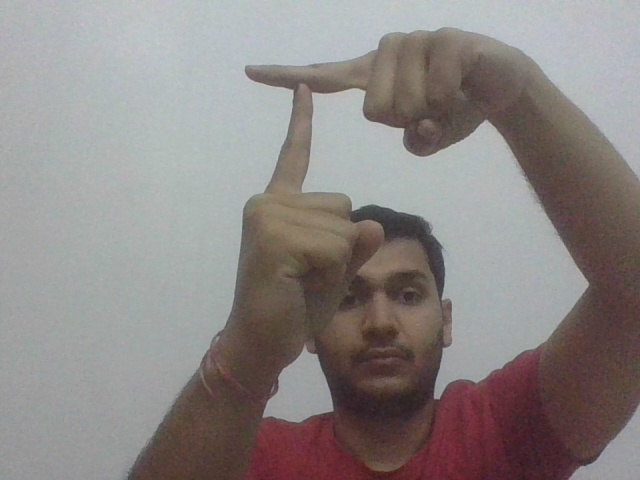T: (242, 55, 356, 187)
